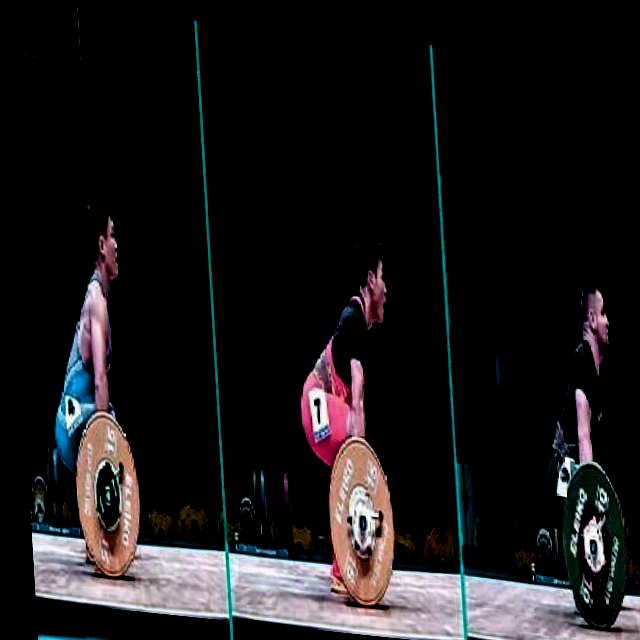barbell: (316, 425, 399, 607), (550, 442, 630, 627), (61, 402, 143, 582)
